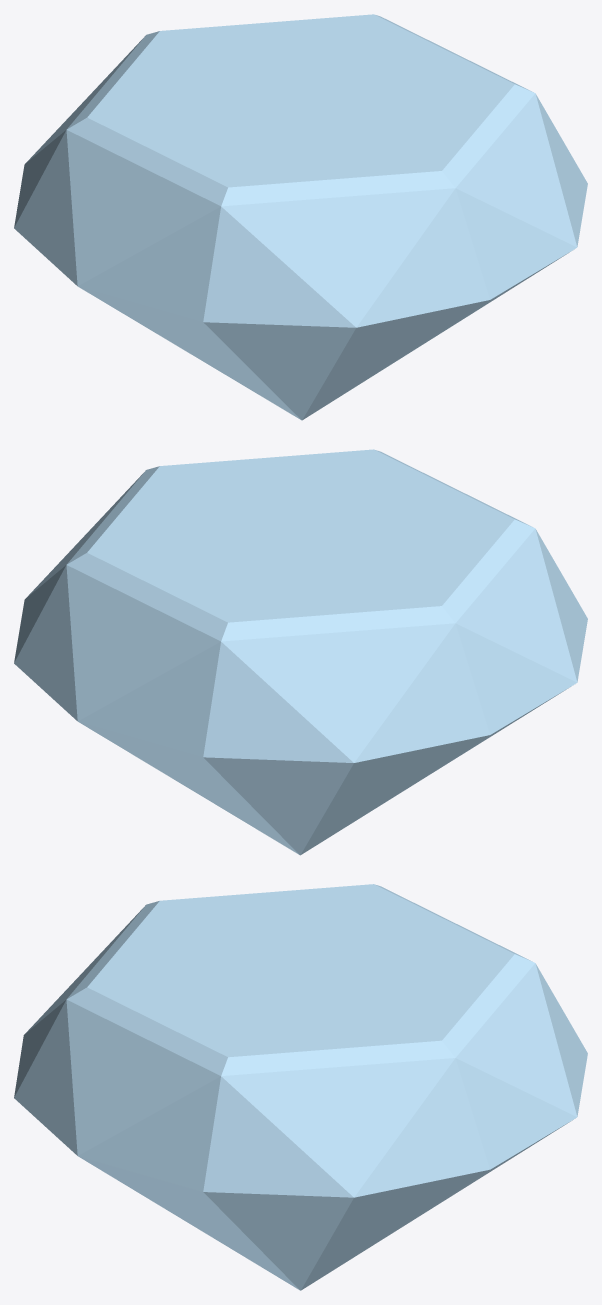
File: diamond.fbx
The picture shows the model from 3 angles, top to bottom: view 1: azimuth 30°, elevation 25°; view 2: azimuth 150°, elevation 25°; view 3: azimuth 270°, elevation 25°; orthographic projection.
Parts seen in each view (by area): view 1: Diamond; view 2: Diamond; view 3: Diamond.
Part boxes in pixels (bbox=[...]): Diamond: bbox=[14, 14, 587, 420]; Diamond: bbox=[14, 449, 587, 855]; Diamond: bbox=[14, 884, 587, 1290].
Bounding box in the file's own units: 198 × 121 × 197.
